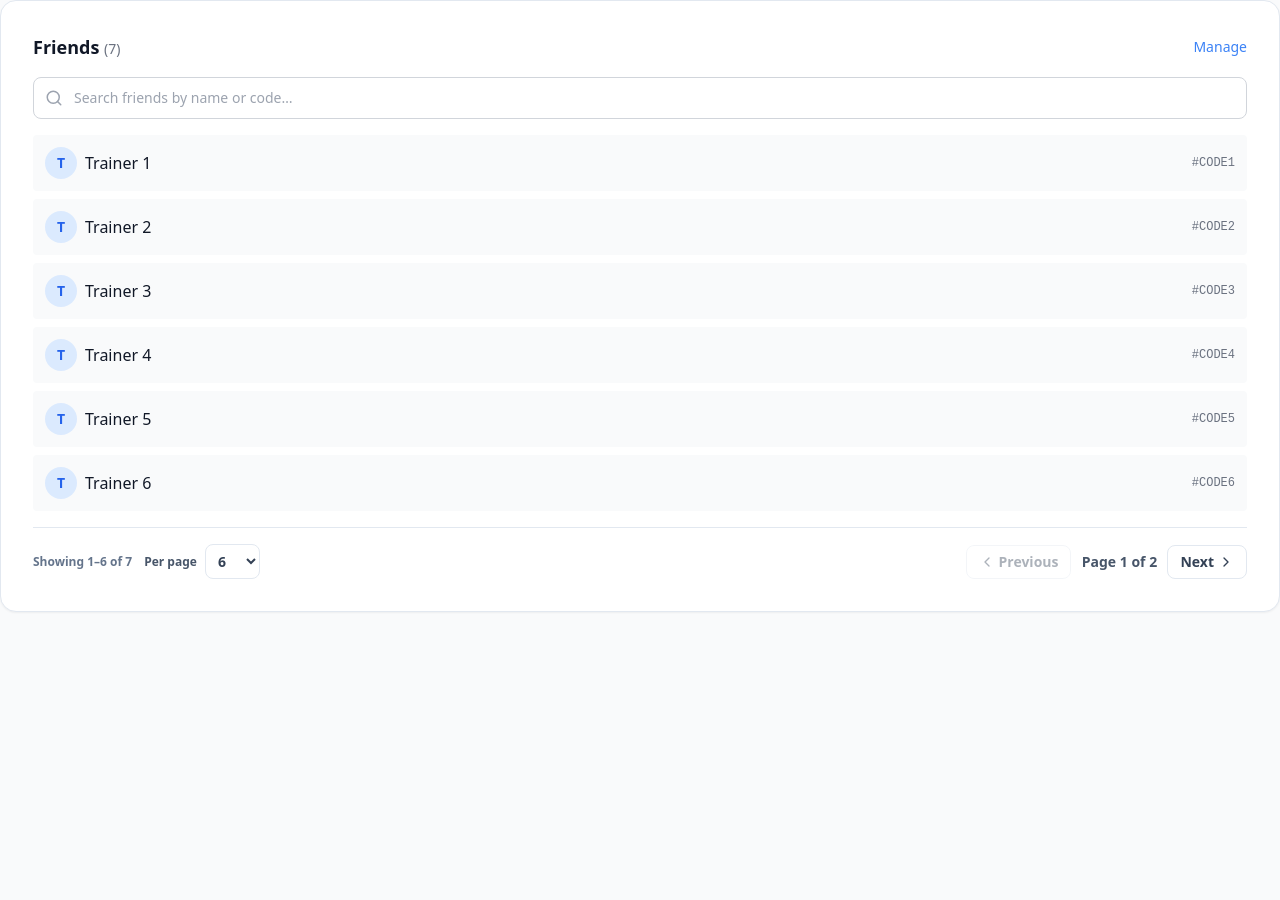
Test case: ProfileFriends search and pagination › paginates the profile friend list and filters it
The image size is (1280, 900).
Expected: the text "Brock" is not shown
Click the button with aria-label "Next friends page". click: point(1207, 562)
box: [1168,544,1247,578]
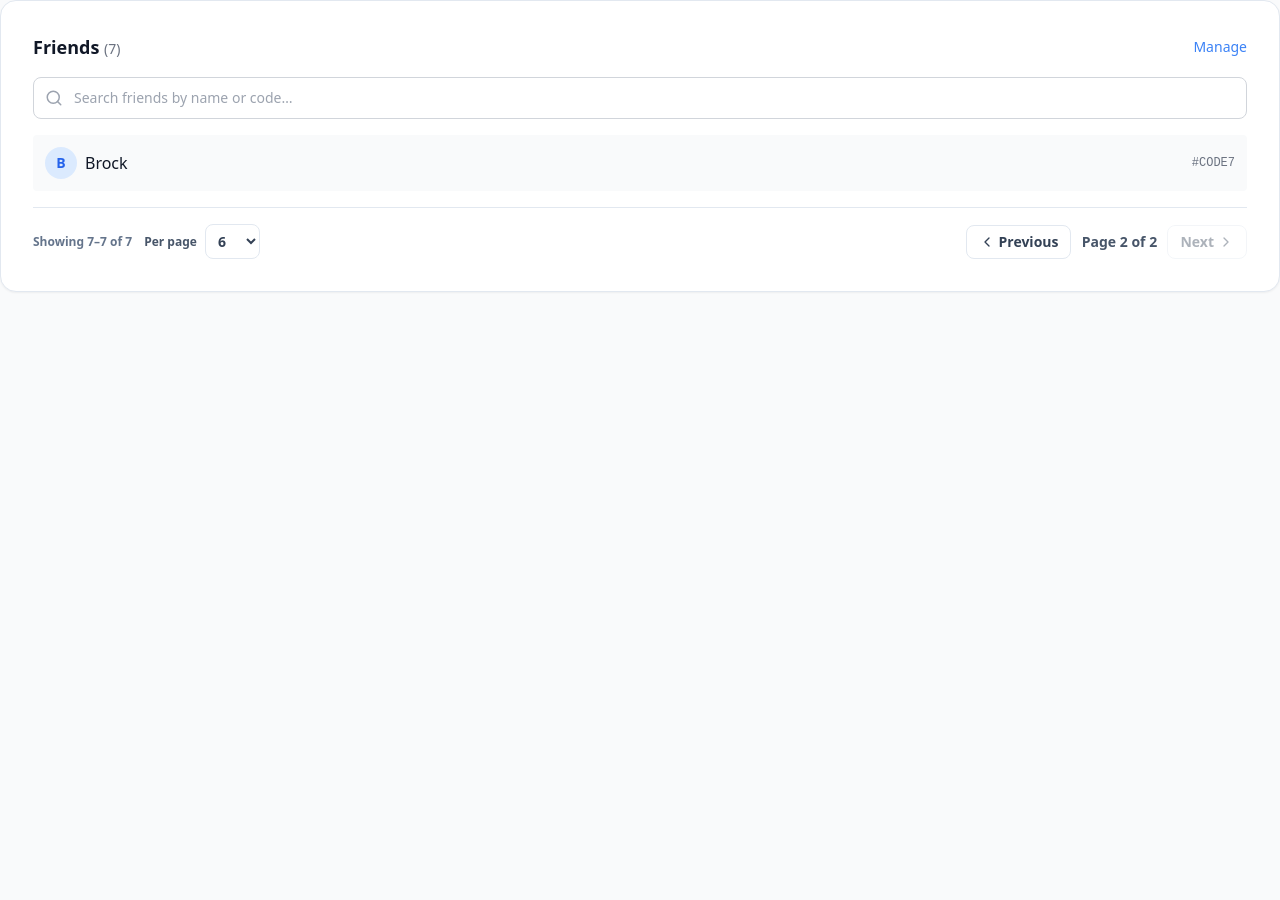
Result: the text "Brock" is shown at [85,151,128,175]
Select "12" in the dropdown named "friends per page". click: point(232, 242)
box: [205,224,260,259]
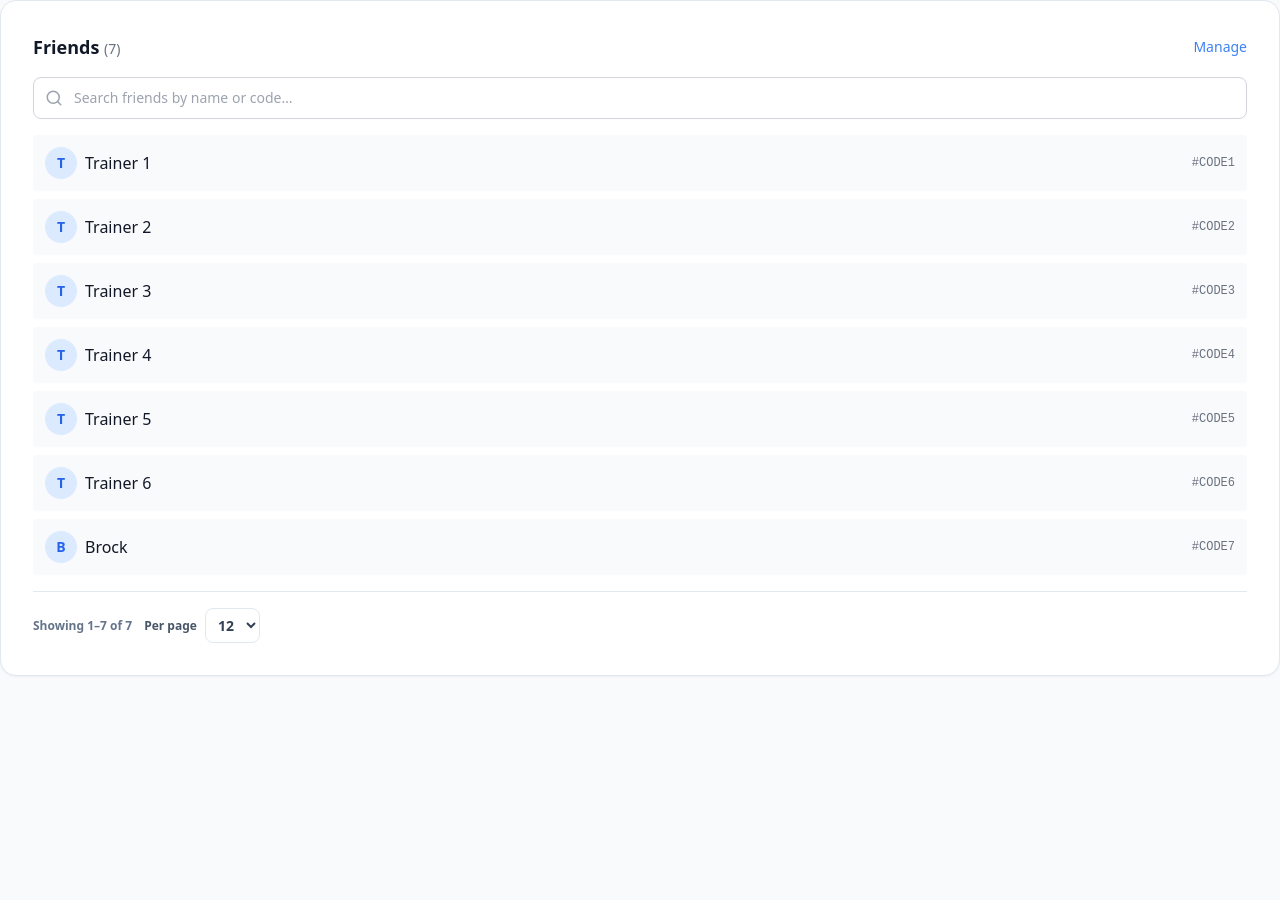
Result: the text "Brock" is shown at [85,535,128,559]
Result: the text "Trainer 1" is shown at [85,151,151,175]
Type "trainer 2" into the search field labelled "Search friends". click: point(640, 98)
box: [33,77,1247,119]
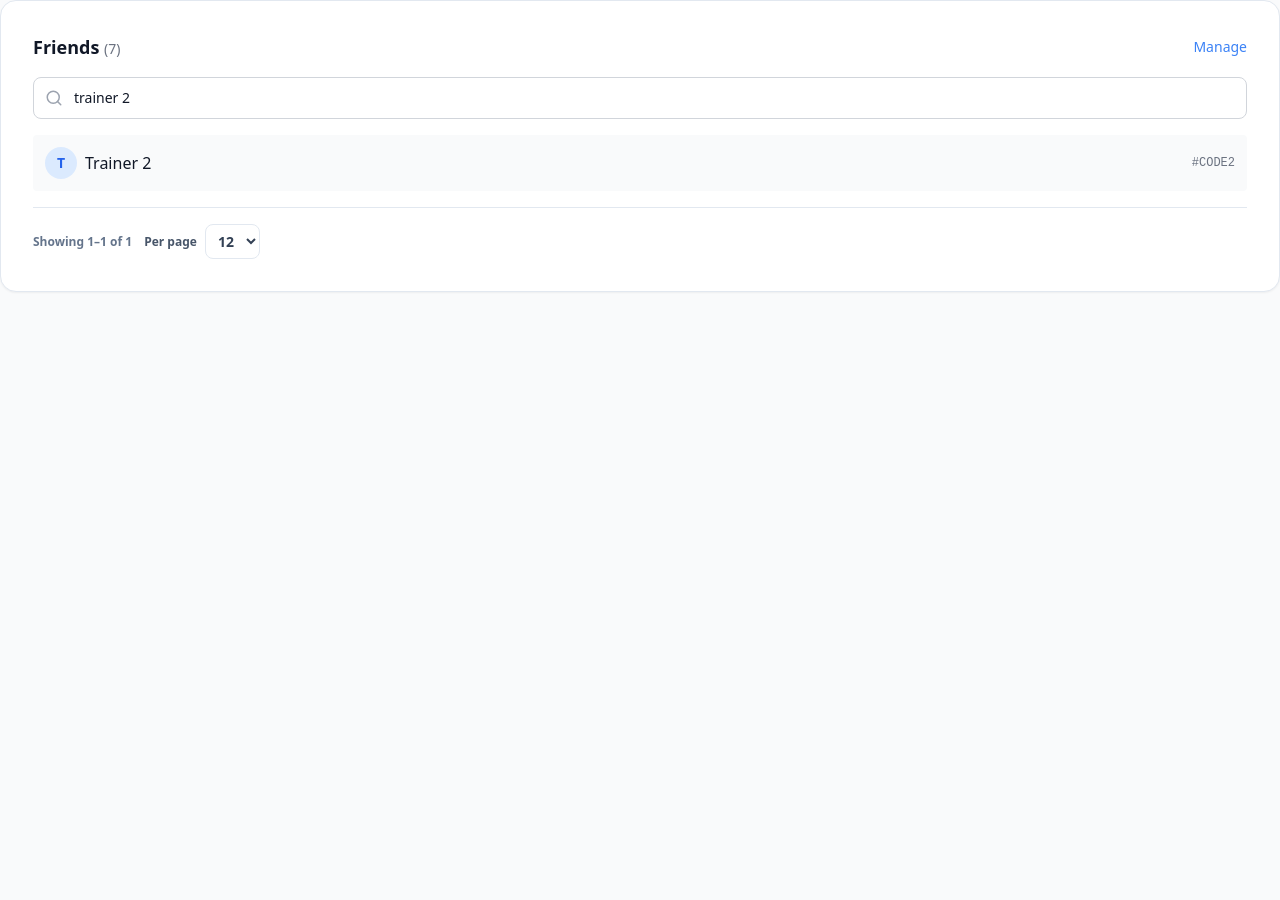
Result: the text "Trainer 2" is shown at [85,151,151,175]
Result: the text "Brock" is gone
